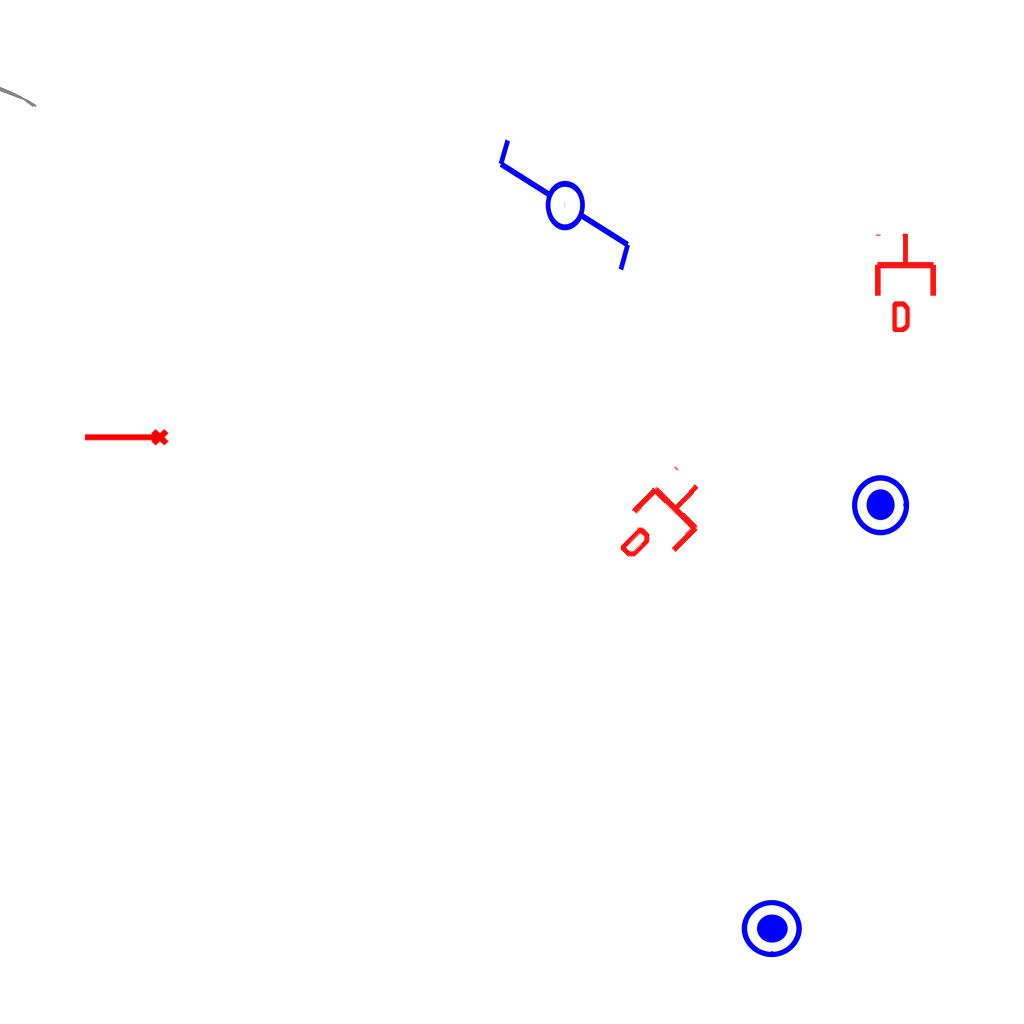ASR_Ansaugoeffnung: (82, 427, 170, 450)
Datenanschluss_einfach: (603, 461, 724, 581), (871, 232, 940, 332)
Taster: (739, 898, 805, 964), (850, 472, 916, 538)
Wechselschalter: (491, 135, 635, 292)
